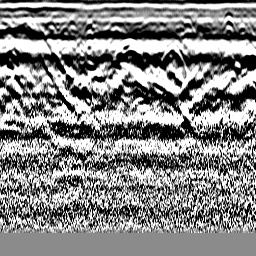cavity: (113, 39, 142, 60)
